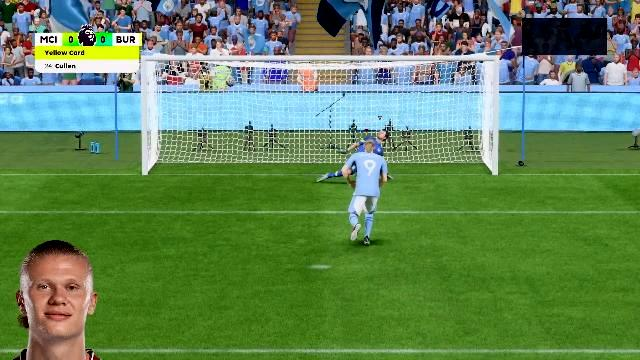bottom-left: (150, 125, 270, 177)
bottom-right: (376, 124, 488, 173)
center-down: (272, 124, 374, 176)
center-up: (272, 65, 374, 123)
football: (223, 76, 237, 86)
goalkeeper: (318, 127, 400, 180)
player: (346, 139, 384, 248)
top-left: (150, 64, 270, 122)
top-right: (375, 66, 489, 124)
